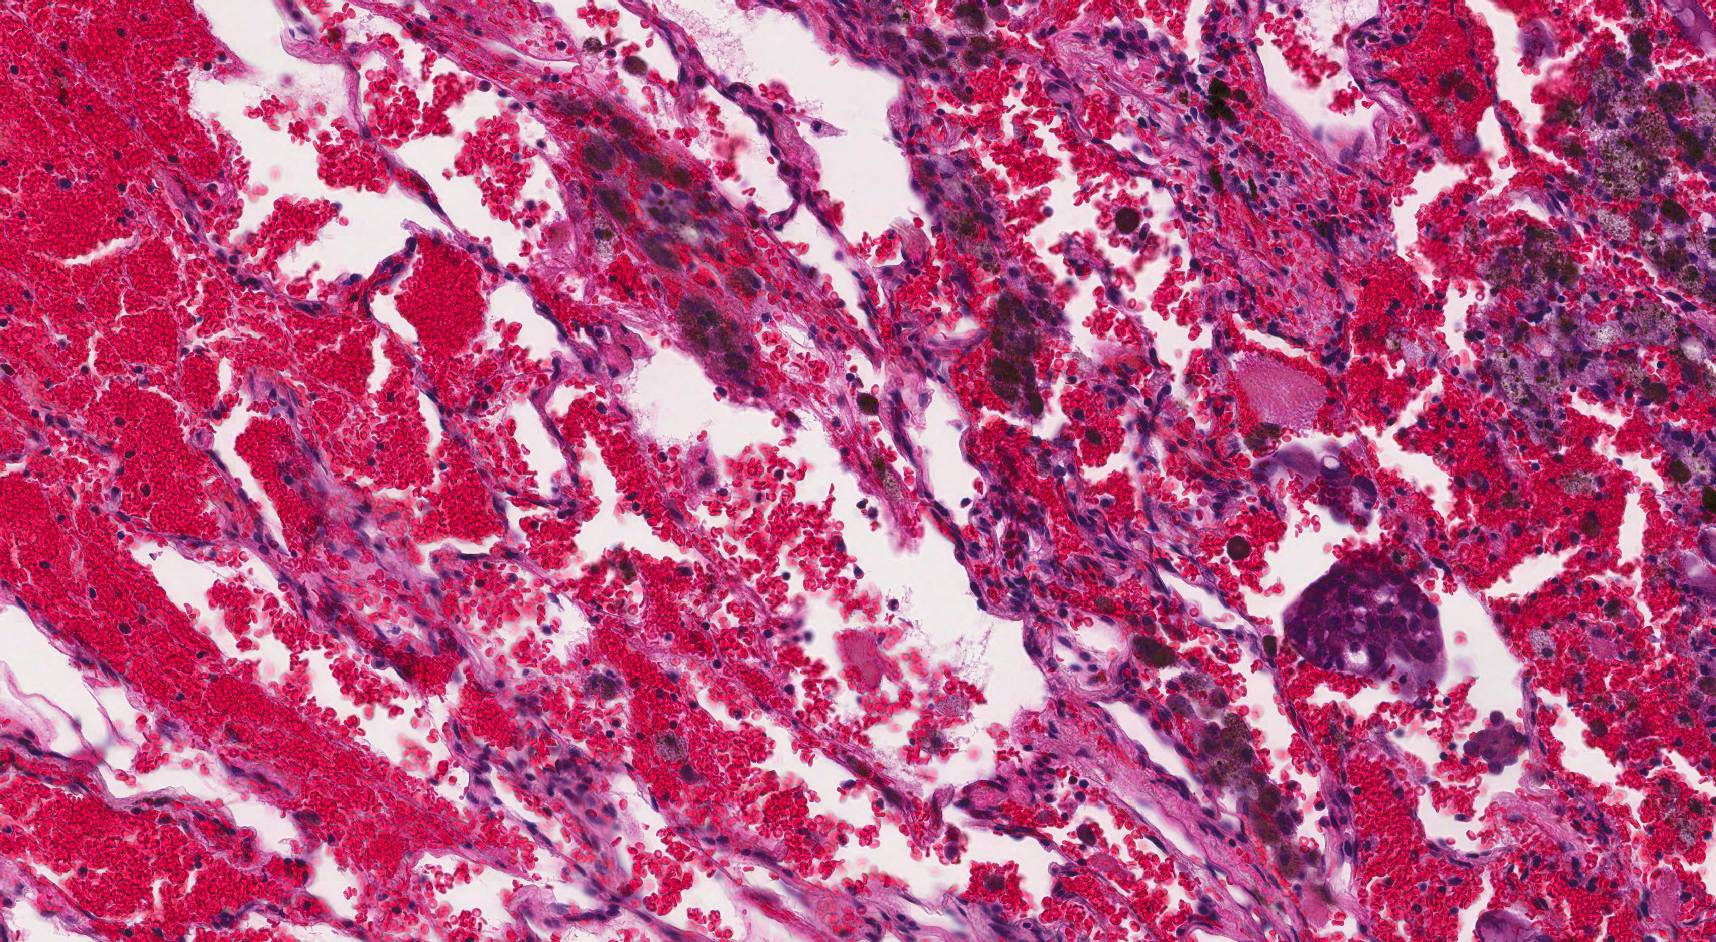stas: (1287, 550, 1450, 683)
